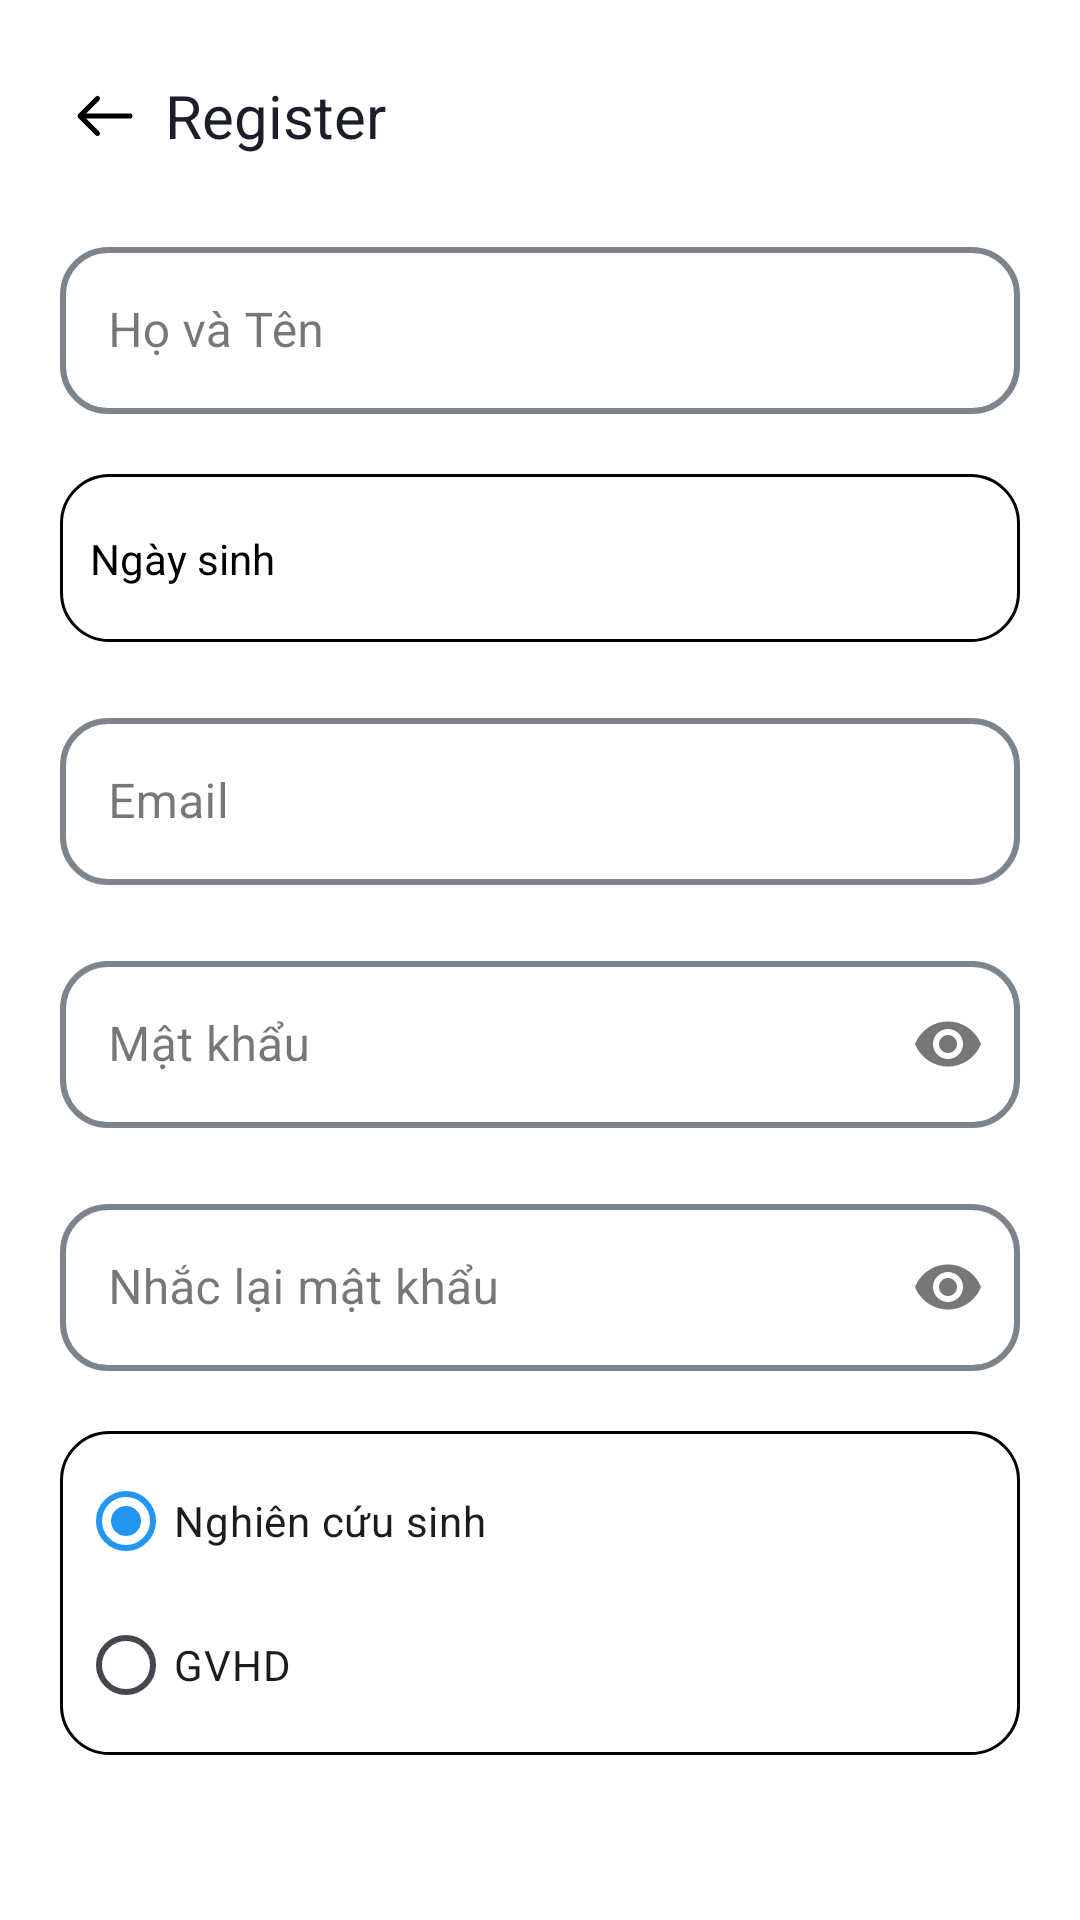

Named icons in this screenshot (1080 x 1920) and their centers, (x=x, y=y):
back: (x=105, y=115)
